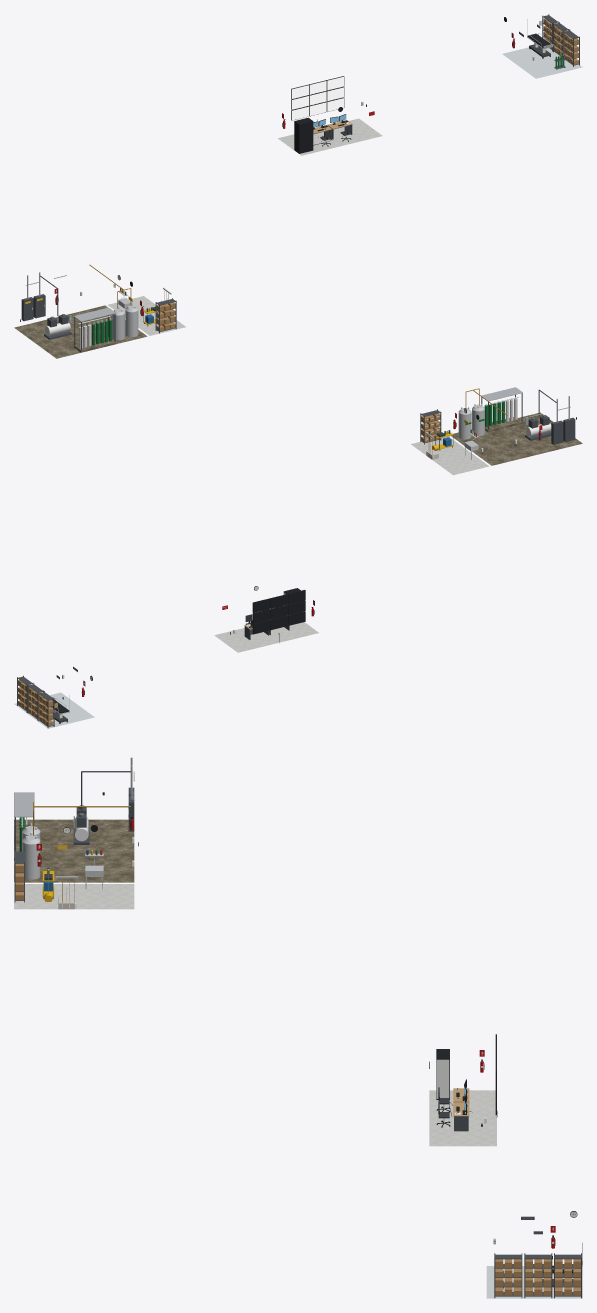
Rendered from 11_n1_servicios_y_bodegas.glb.
3 renders of one model, top to bottom at view 1: azimuth 30°, elevation 25°; view 2: azimuth 210°, elevation 25°; view 3: azimuth 270°, elevation 25°, orthographic. The views are drawn at different scales.
Parts seen in each view (by area): view 1: piso · Sala de máquinas y gases medicinales, banco_cilindros, piso · Site y comunicaciones · control de video, piso · Pasillo de camillas y bodega, anaquel_rotulado (×2), piso · Séptico · limpieza e intendencia, rack_42u, compresor; view 2: piso · Sala de máquinas y gases medicinales, piso · Site y comunicaciones · control de video, banco_cilindros, piso · Séptico · limpieza e intendencia, anaquel_rotulado (×2), piso · Pasillo de camillas y bodega, compresor; view 3: piso · Sala de máquinas y gases medicinales, anaquel_rotulado (×3), piso · Site y comunicaciones · control de video, piso · Séptico · limpieza e intendencia, piso · Pasillo de camillas y bodega, banco_cilindros, rack_42u, termo_oxigeno.
Boxes of the visible parts, x1,y1,x2,y2 form: piso · Sala de máquinas y gases medicinales: (14, 305, 147, 358); banco_cilindros: (74, 307, 115, 352); piso · Site y comunicaciones · control de video: (278, 118, 382, 155); piso · Pasillo de camillas y bodega: (502, 47, 582, 78); anaquel_rotulado (×2): (155, 29, 579, 333); piso · Séptico · limpieza e intendencia: (108, 296, 185, 335); rack_42u: (294, 117, 313, 153); compresor: (44, 314, 71, 339); piso · Sala de máquinas y gases medicinales: (451, 412, 582, 465); piso · Site y comunicaciones · control de video: (214, 622, 318, 652); banco_cilindros: (481, 387, 522, 432); piso · Séptico · limpieza e intendencia: (411, 436, 489, 475); anaquel_rotulado (×2): (38, 409, 441, 728); piso · Pasillo de camillas y bodega: (14, 692, 94, 728); compresor: (525, 415, 551, 440); piso · Sala de máquinas y gases medicinales: (14, 819, 134, 882); anaquel_rotulado (×3): (494, 1253, 581, 1298); piso · Site y comunicaciones · control de video: (429, 1090, 496, 1146); piso · Séptico · limpieza e intendencia: (14, 884, 134, 909); piso · Pasillo de camillas y bodega: (486, 1266, 582, 1298); banco_cilindros: (14, 792, 34, 860); rack_42u: (436, 1049, 449, 1099); termo_oxigeno: (22, 832, 40, 879).
Size of the model in its own units: 49.73 by 3.57 by 24.8.
56 materials, 6 textured.
